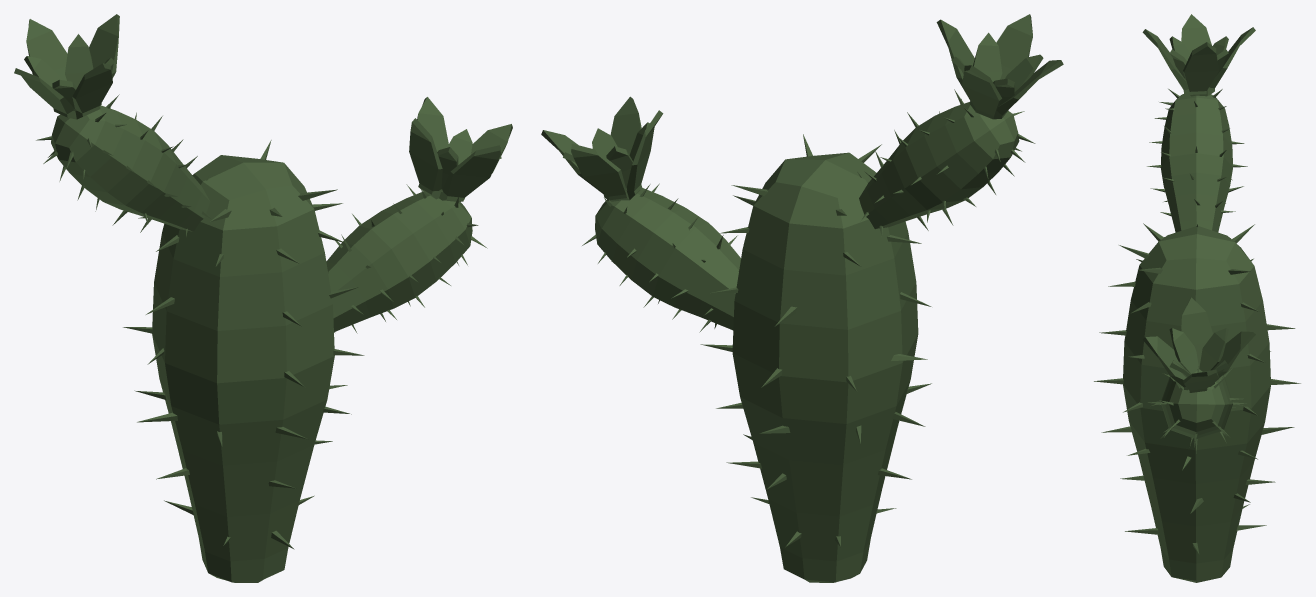
Rendered from Cactus_4.glb.
3 views of the same model, side by side, from view 1: azimuth 30°, elevation 25°; view 2: azimuth 150°, elevation 25°; view 3: azimuth 270°, elevation 25° (orthographic). The views are drawn at different scales.
Visible parts, largest first — view 1: Cactus_4_Cube.020; view 2: Cactus_4_Cube.020; view 3: Cactus_4_Cube.020.
Part boxes in pixels (x1,y1,x2,y2): Cactus_4_Cube.020: (14, 14, 512, 582); Cactus_4_Cube.020: (541, 14, 1063, 582); Cactus_4_Cube.020: (1094, 14, 1300, 582).
Size of the model in its own units: 1.31 by 1.43 by 0.5629.
